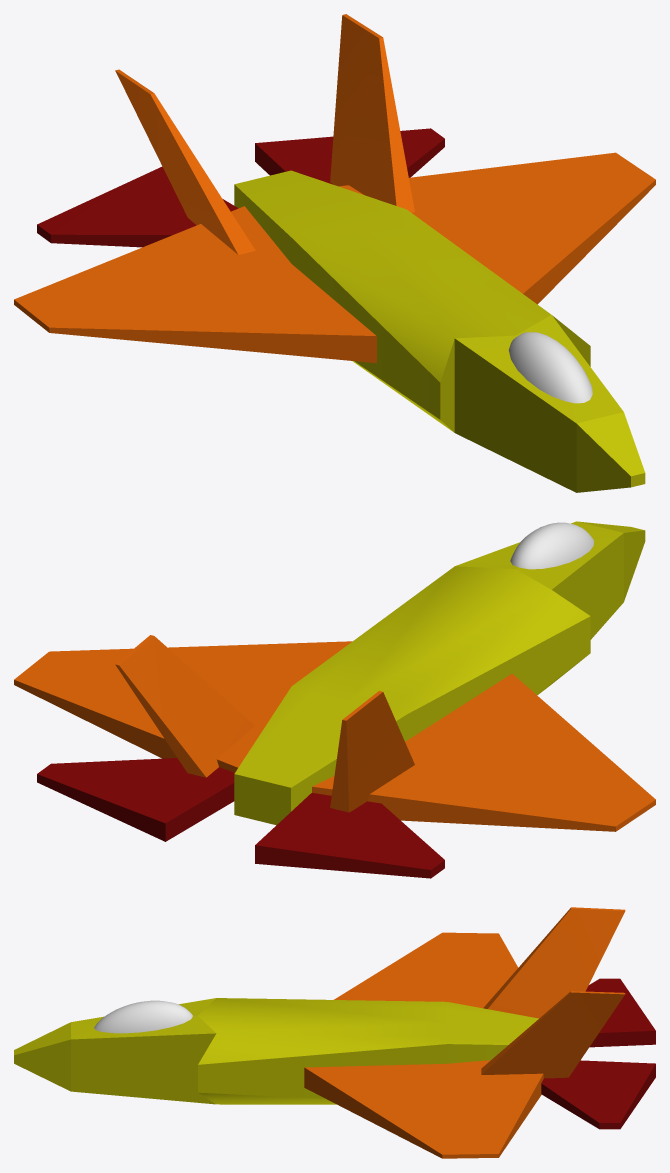
File: Player.fbx
The picture shows the model from 3 angles, top to bottom: view 1: azimuth 30°, elevation 25°; view 2: azimuth 150°, elevation 25°; view 3: azimuth 270°, elevation 25°; orthographic projection. The views are drawn at different scales.
Parts seen in each view (by area): view 1: pCube5; view 2: pCube5; view 3: pCube5.
Part boxes in pixels (x1,y1,x2,y2): pCube5: (14,14,655,492); pCube5: (14,521,655,878); pCube5: (14,907,655,1158).
Size of the model in its own units: 1.12 by 0.3216 by 1.37.
